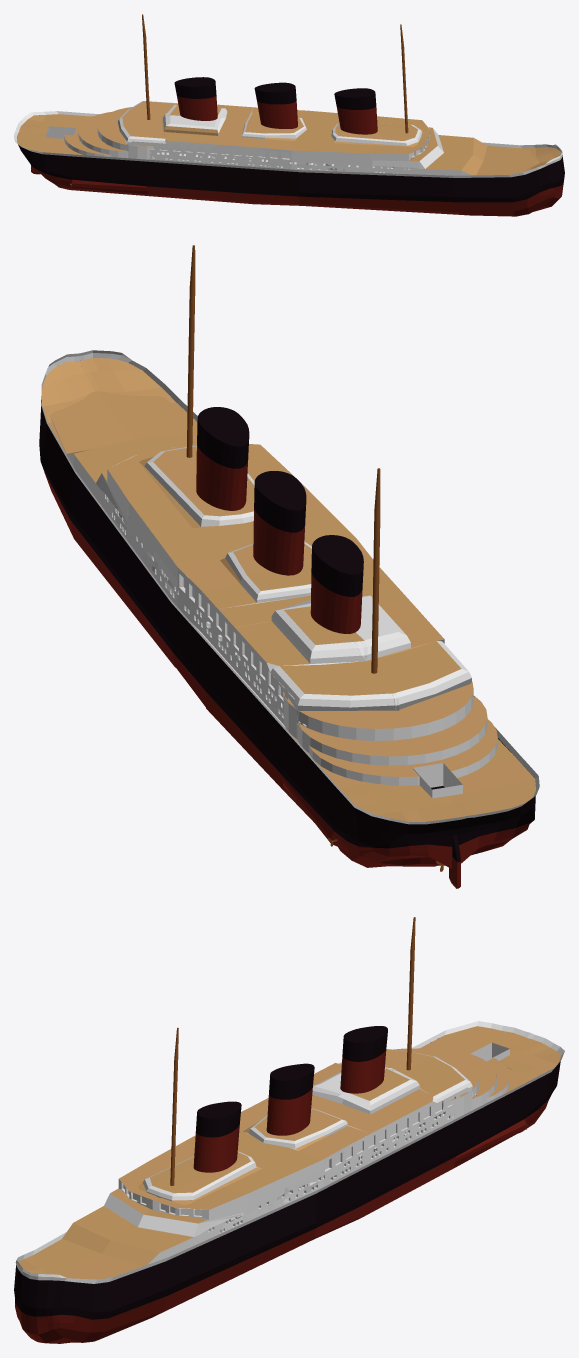
File: paquebot_normandie.glb
The picture shows the model from 3 angles, top to bottom: view 1: azimuth 30°, elevation 25°; view 2: azimuth 150°, elevation 25°; view 3: azimuth 270°, elevation 25°; orthographic projection. The views are drawn at different scales.
Parts seen in each view (by area): view 1: gouvernail; view 2: gouvernail; view 3: gouvernail.
Boxes of the visible parts, x1=… form: gouvernail: x1=14, y1=14, x2=564, y2=216; gouvernail: x1=39, y1=245, x2=539, y2=888; gouvernail: x1=14, y1=917, x2=564, y2=1343.
Size of the model in its own units: 41.92 by 18.12 by 35.64.
